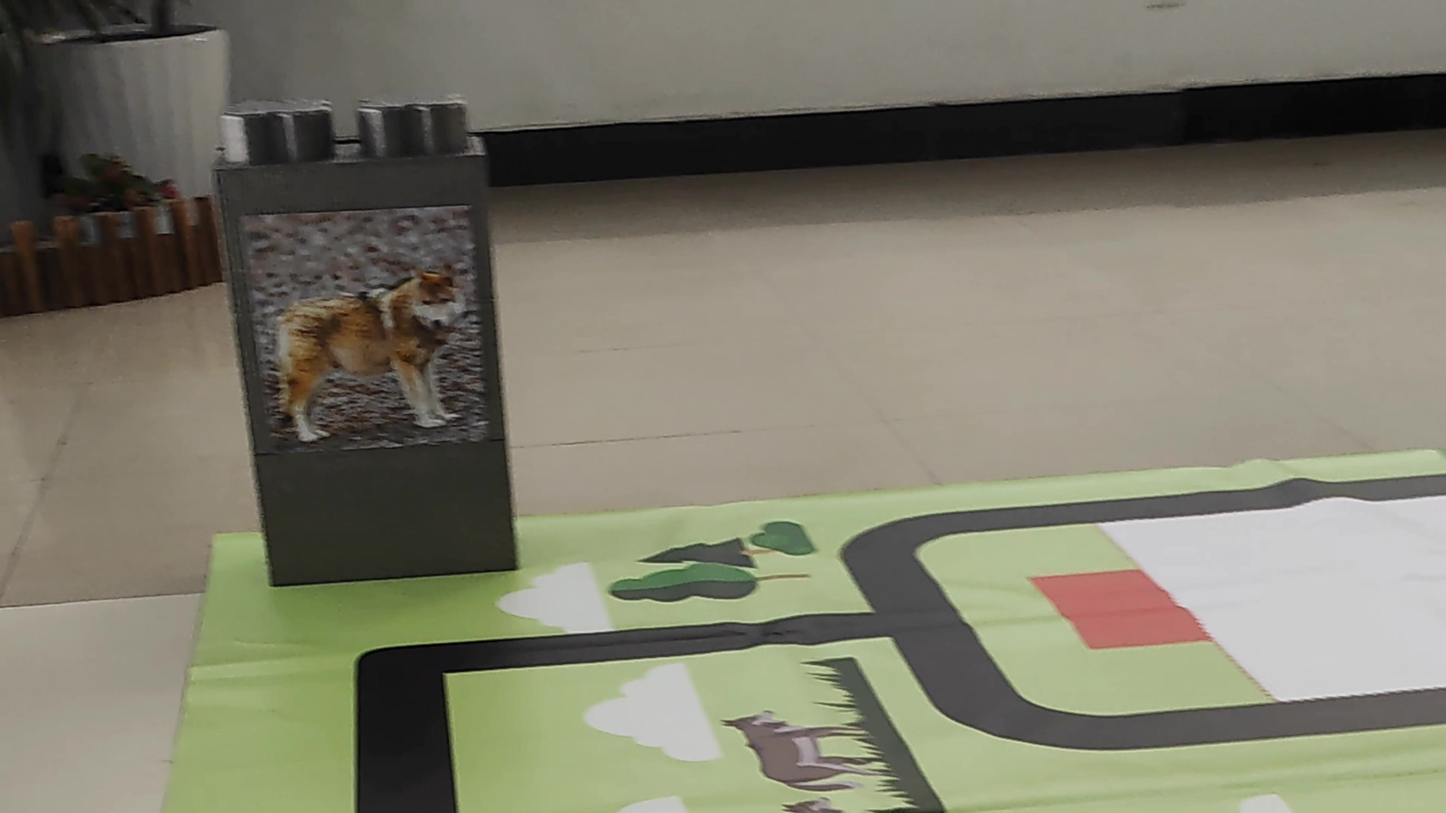wolf: (248, 213, 482, 448)
